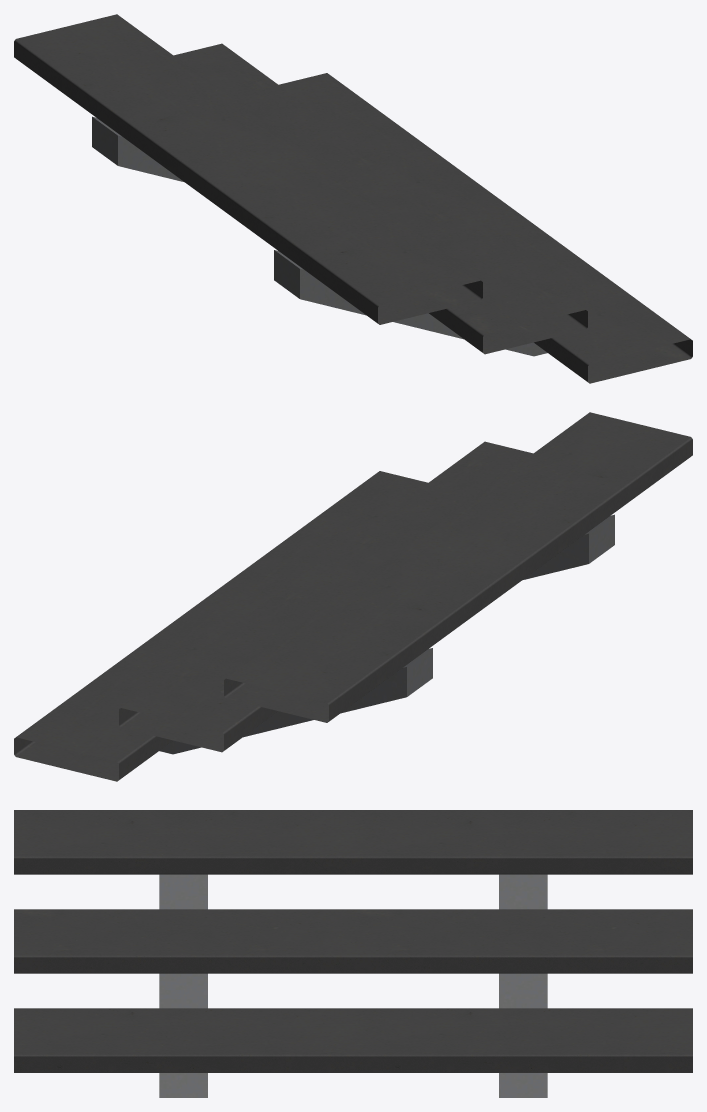
Rendered from SM_dev_stairs_200_100_50.fbx.
3 views of the same model, one above another, from view 1: azimuth 30°, elevation 25°; view 2: azimuth 150°, elevation 25°; view 3: azimuth 270°, elevation 25° (orthographic). The views are drawn at different scales.
Visible parts, largest first — view 1: polySurface714, polySurface712; view 2: polySurface714, polySurface712; view 3: polySurface714, polySurface712.
Boxes of the visible parts, x1=… form: polySurface714: x1=14, y1=14, x2=692, y2=383; polySurface712: x1=92, y1=116, x2=547, y2=356; polySurface714: x1=14, y1=412, x2=692, y2=781; polySurface712: x1=159, y1=514, x2=614, y2=754; polySurface714: x1=14, y1=810, x2=692, y2=1072; polySurface712: x1=159, y1=874, x2=547, y2=1097.
Size of the model in its own units: 1 by 0.5 by 2.
